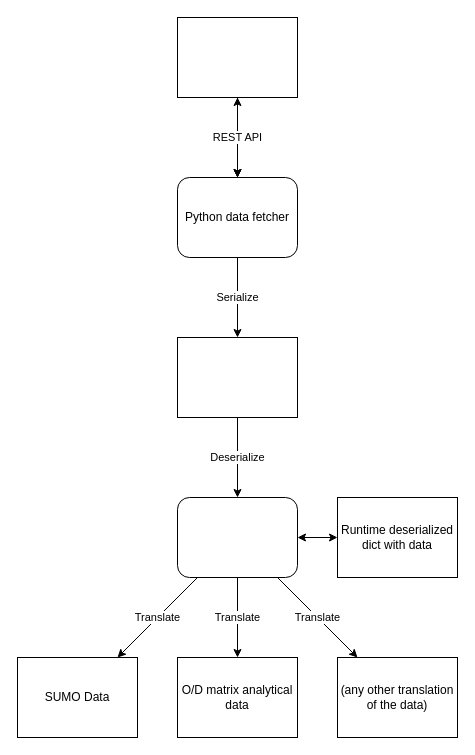
This 475x755 diagram has some shape labels left out. The shapes that lost their labels are listed below. From the top down, each one's centre as x and y in pixels, then its label:
At [237,57]: "AGROS raw data".
At [237,377]: "Stored data (local files, database, whatever)".
At [237,537]: "Python analyzer".
